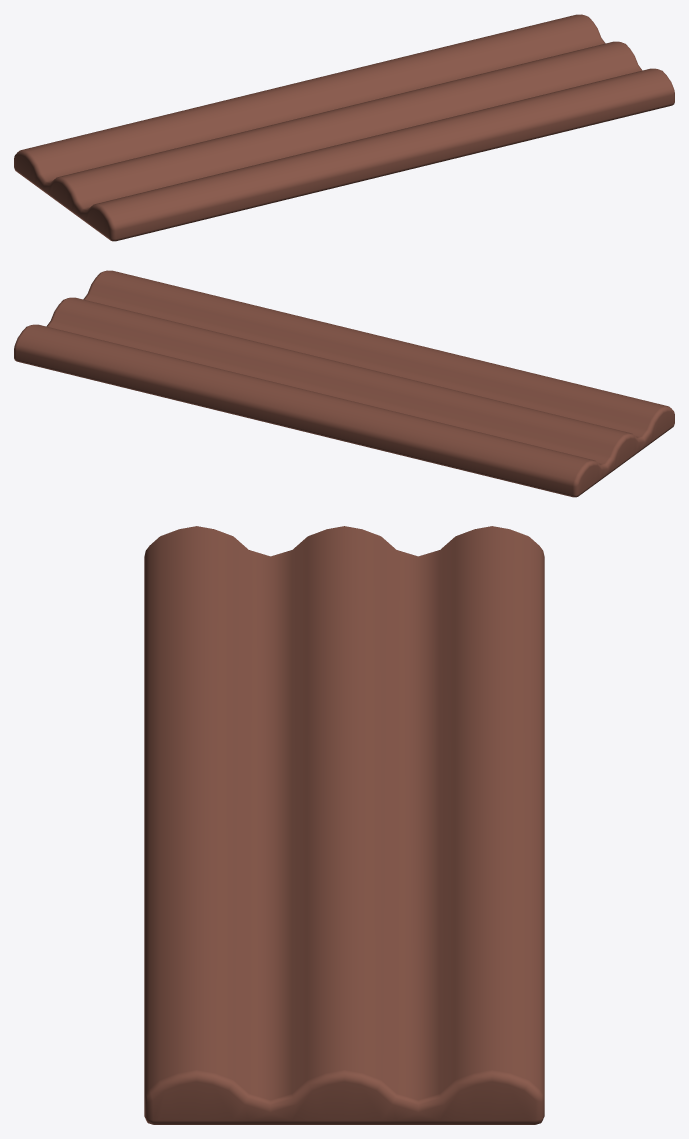
File: Farm_8_Garden_1.glb
3 views of the same model, one above another, from view 1: azimuth 30°, elevation 25°; view 2: azimuth 150°, elevation 25°; view 3: azimuth 270°, elevation 25° (orthographic). The views are drawn at different scales.
Parts seen in each view (by area): view 1: Farm_8_Garden_1; view 2: Farm_8_Garden_1; view 3: Farm_8_Garden_1.
Boxes of the visible parts, box(x1,y1,x2,y2) form: Farm_8_Garden_1: box(14, 14, 674, 241); Farm_8_Garden_1: box(14, 270, 674, 497); Farm_8_Garden_1: box(144, 526, 544, 1124).
Bounding box in the file's own units: 7.33 × 0.3405 × 2.25.
1 material, 1 textured.
